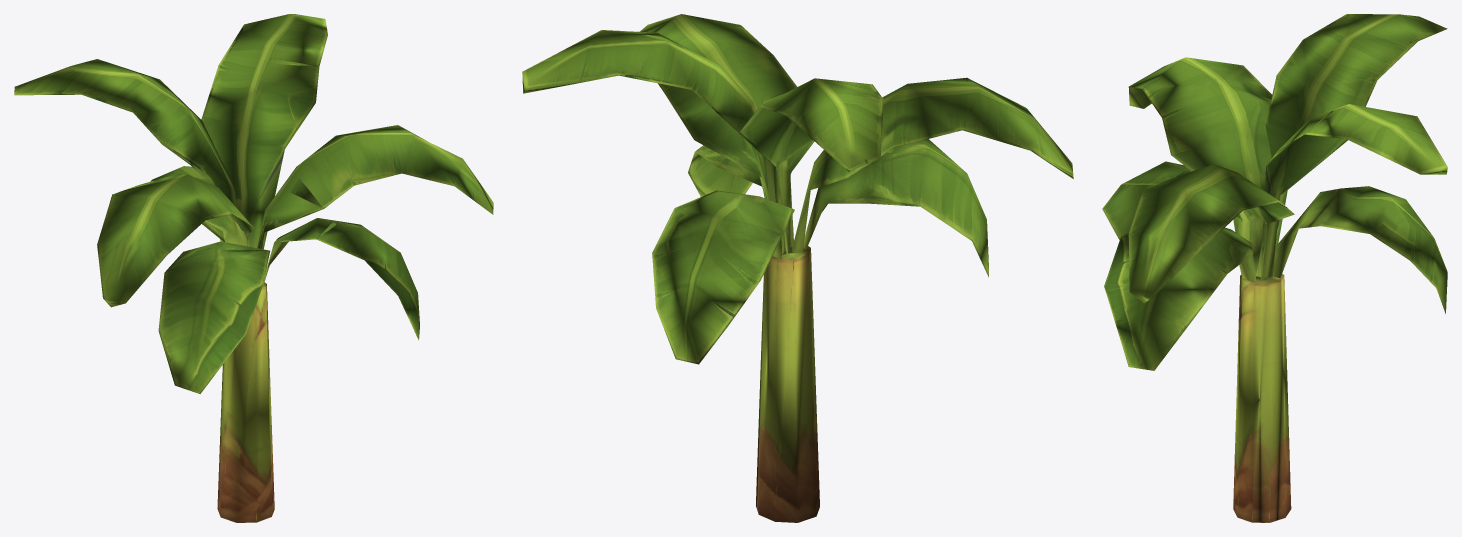
File: Meshy_AI_Gray_Palm_Tree_0901065050_texture.fbx
The picture shows the model from 3 angles, left to right: view 1: azimuth 30°, elevation 25°; view 2: azimuth 150°, elevation 25°; view 3: azimuth 270°, elevation 25°; orthographic projection. The views are drawn at different scales.
Parts seen in each view (by area): view 1: mesh_node; view 2: mesh_node; view 3: mesh_node.
Part boxes in pixels (<box>): mesh_node: <box>14,14,493,522</box>; mesh_node: <box>522,14,1073,522</box>; mesh_node: <box>1102,14,1447,522</box>.
Bounding box in the file's own units: 289 × 300 × 213.
Materials: 1 (1 with a texture image).
